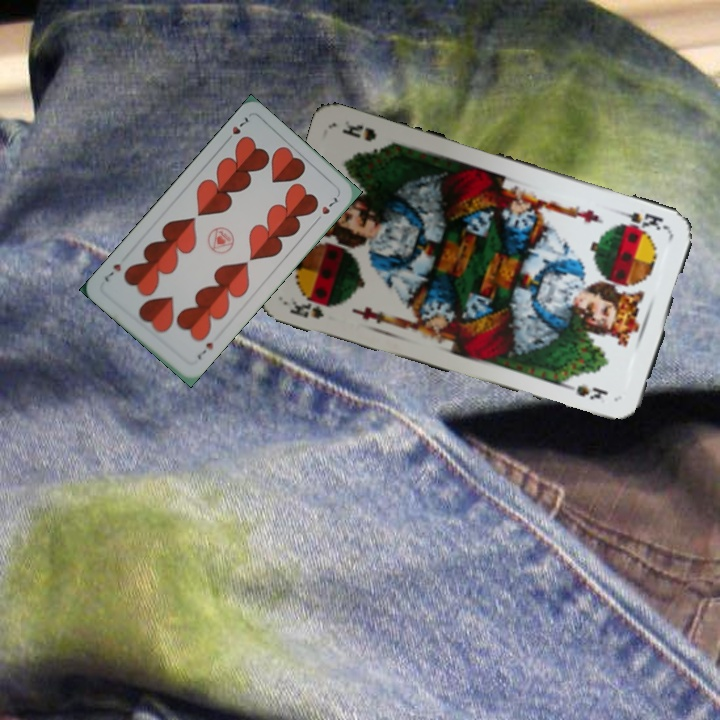H7: (221, 112, 251, 146), (192, 338, 216, 362)
SK: (612, 205, 670, 233), (285, 295, 334, 322)
